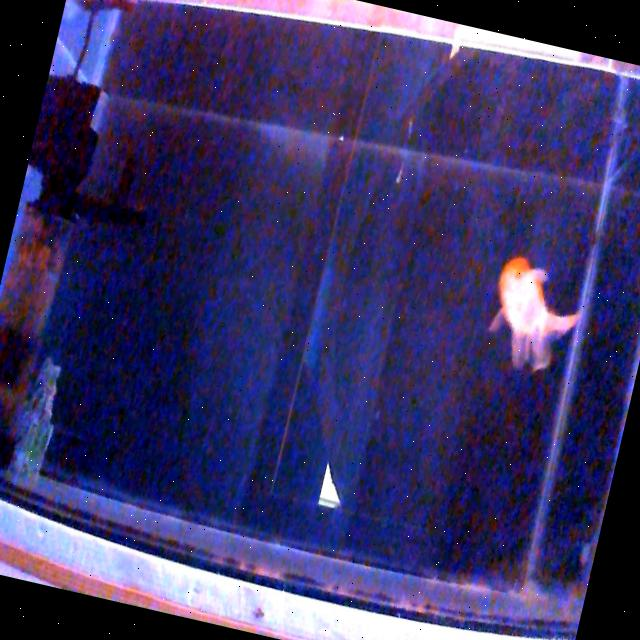fish: (488, 257, 579, 371)
